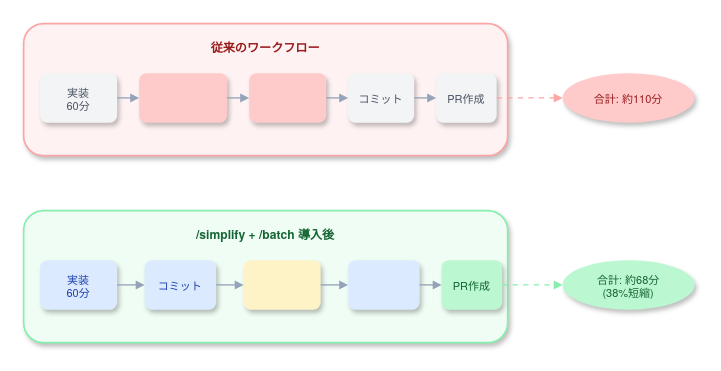
Image size: 721x371. Some labels were removed from this diagram. The centre of each missing label's shape, as x and y in pixels:
"/simplify 2〜3分" goes at [283,286].
"差分確認 5分" goes at [384,286].
"手動レビュー 30分" goes at [183,99].
"手動修正 20分" goes at [288,99].
